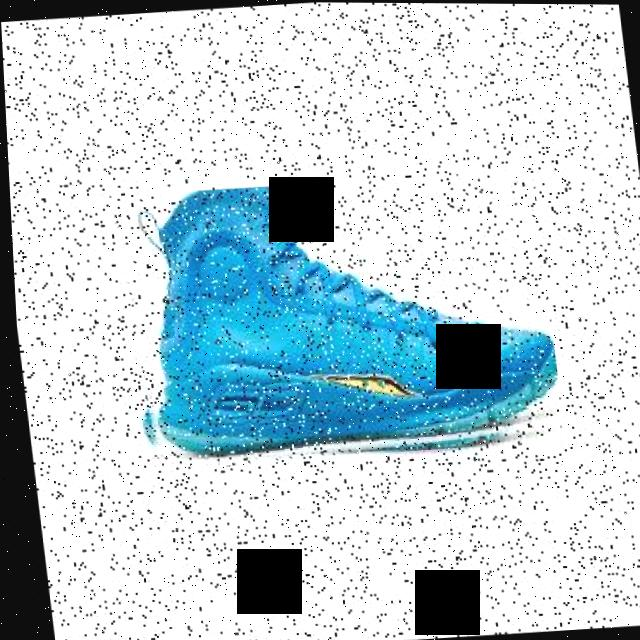shoe: (115, 171, 555, 473), (137, 184, 554, 461)
